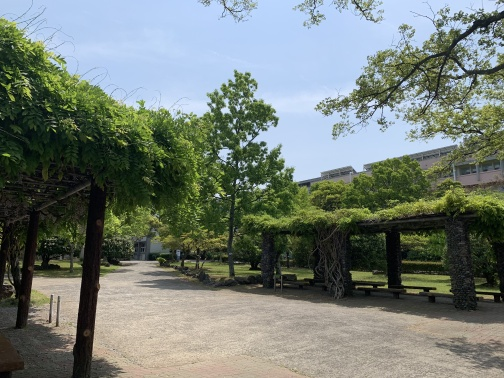College Of Education: (307, 135, 504, 196)
